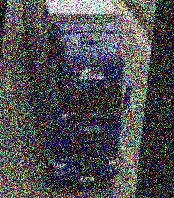truck: (2, 0, 144, 191)
